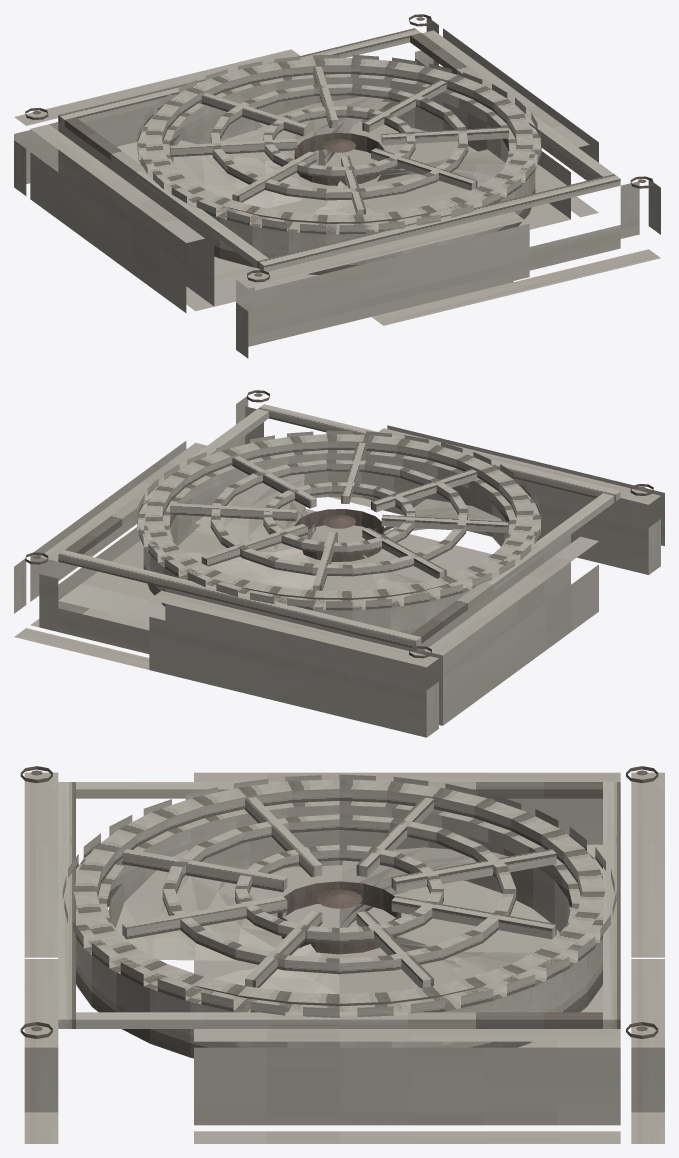
3 views of the same model, one above another, from view 1: azimuth 30°, elevation 25°; view 2: azimuth 150°, elevation 25°; view 3: azimuth 270°, elevation 25° (orthographic). The views are drawn at different scales.
Bounding box in the file's own units: 0.442 × 0.0881 × 0.442.
